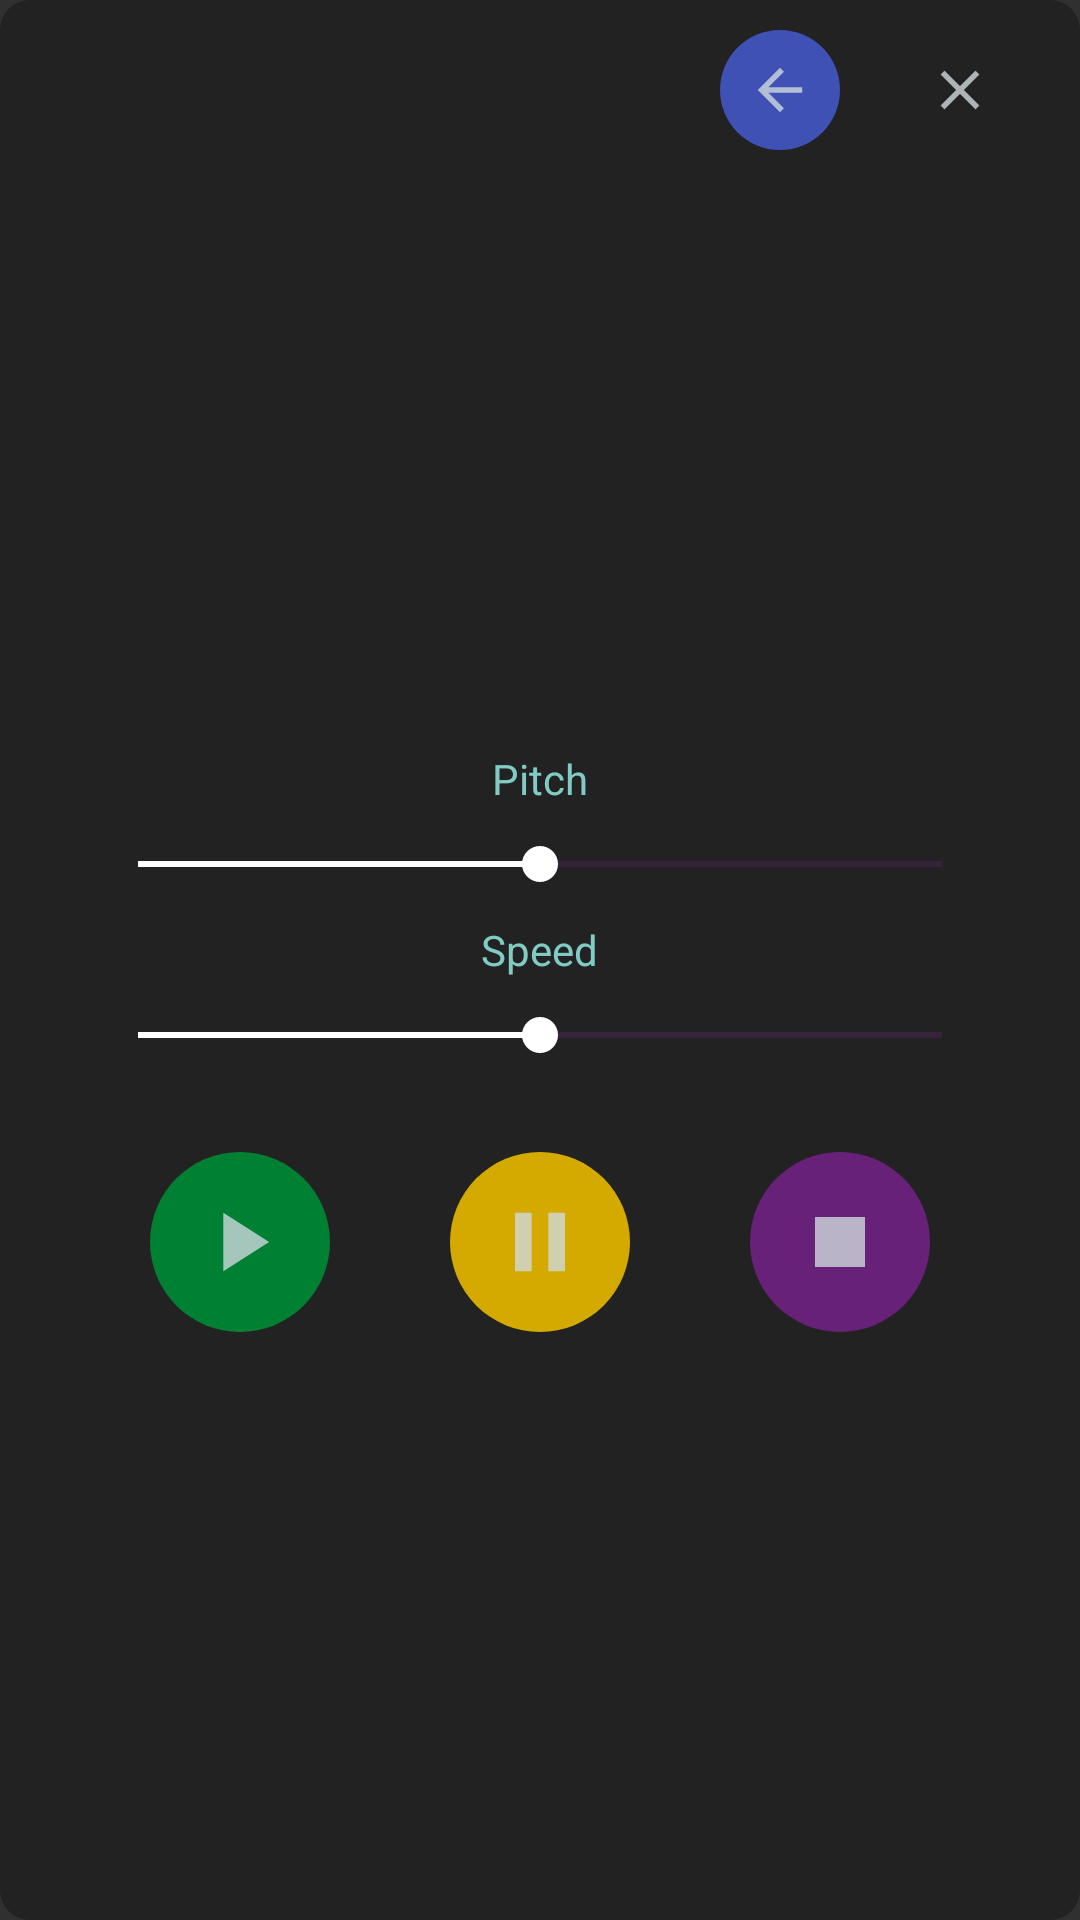

Screen size 1080w x 1920h. Icon name, then its box in pixels as (x1, y1, x2, y2):
Back: (720, 30, 840, 150)
close: (941, 71, 979, 109)
Pause: (450, 1152, 630, 1332)
play: (150, 1152, 330, 1332)
Stop: (750, 1152, 930, 1332)
